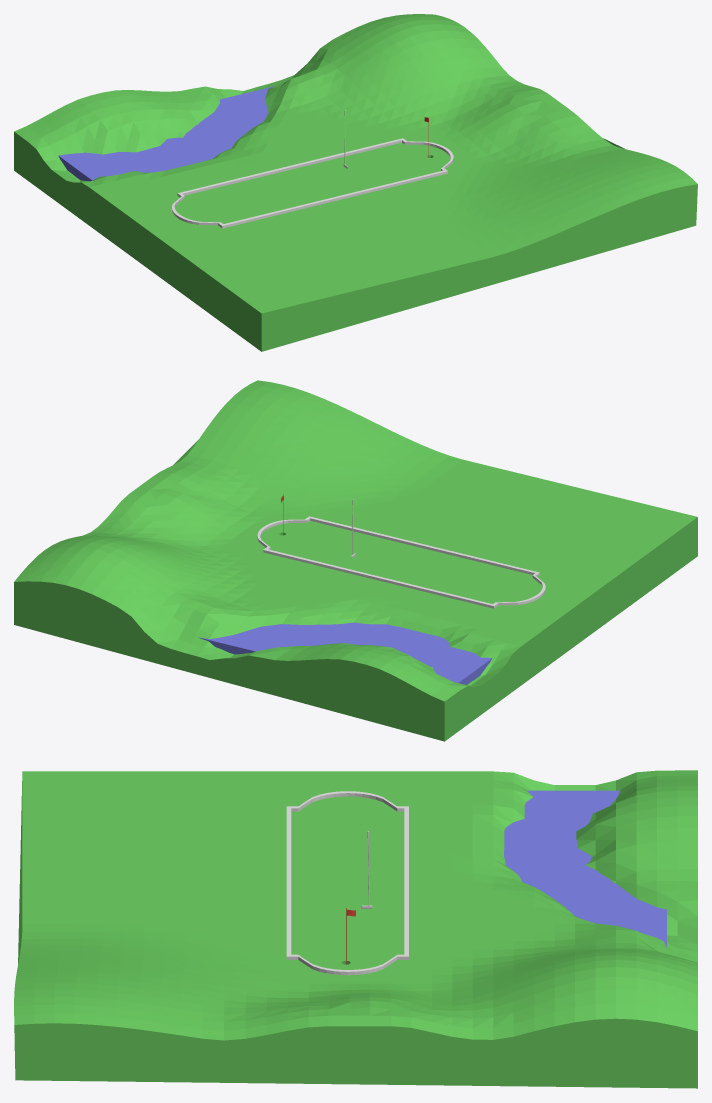
The model's file is Hoyo base terminado.fbx.
3 renders of one model, top to bottom at view 1: azimuth 30°, elevation 25°; view 2: azimuth 150°, elevation 25°; view 3: azimuth 270°, elevation 25°, orthographic. The views are drawn at different scales.
Visible parts, largest first — view 1: Cube.001, Cube.002, Cube.004; view 2: Cube.001, Cube.002, Cube.004; view 3: Cube.001, Cube.002, Cube.004.
Part boxes in pixels (x1,y1,x2,y2): Cube.001: (14, 14, 697, 351); Cube.002: (58, 85, 276, 181); Cube.004: (172, 138, 453, 228); Cube.001: (14, 380, 697, 741); Cube.002: (198, 622, 492, 684); Cube.004: (257, 516, 545, 608); Cube.001: (14, 770, 697, 1088); Cube.002: (504, 790, 666, 947); Cube.004: (286, 791, 408, 975).
Bounding box in the file's own units: 1200 × 257 × 1200.
